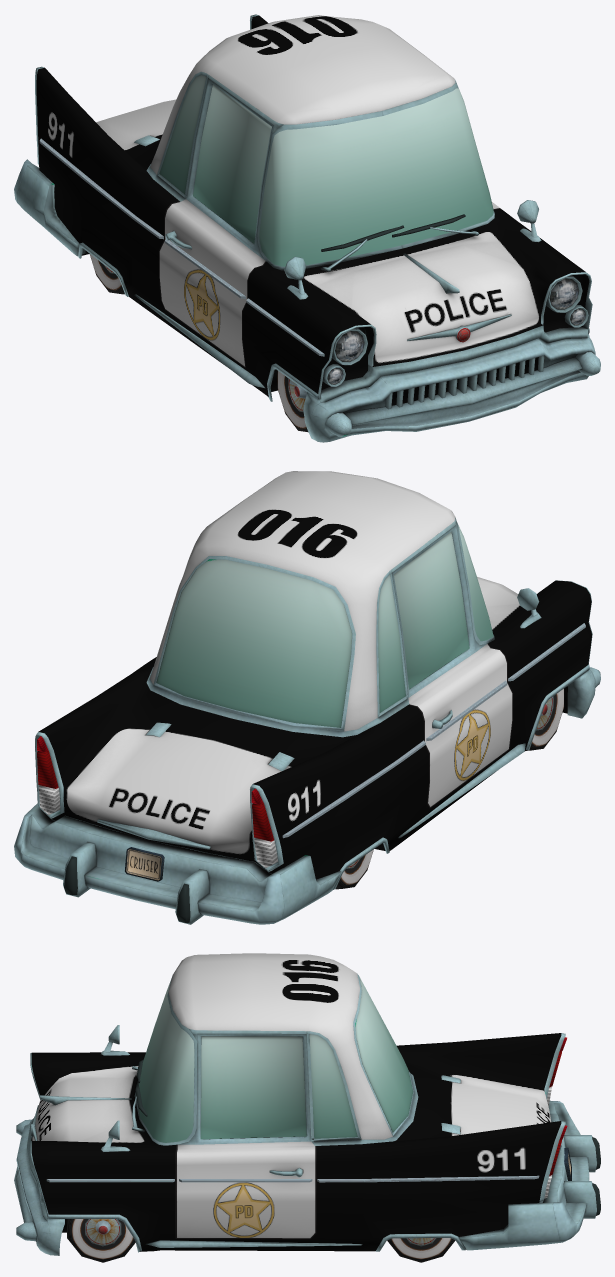
Rendered from cruiser.glb.
The picture shows the model from 3 angles, top to bottom: view 1: azimuth 30°, elevation 25°; view 2: azimuth 150°, elevation 25°; view 3: azimuth 270°, elevation 25°; orthographic projection. The views are drawn at different scales.
Visible parts, largest first — view 1: BODY, front_right_wheel, rear_right_wheel; view 2: BODY, front_right_wheel, rear_right_wheel; view 3: BODY, front_left_wheel, rear_left_wheel.
Boxes of the visible parts, x1,y1,x2,y2 form: BODY: (14,14,600,442); front_right_wheel: (277,370,308,432); rear_right_wheel: (89,253,124,294); BODY: (14,471,600,924); front_right_wheel: (526,688,564,750); rear_right_wheel: (335,849,373,889); BODY: (14,953,600,1255); front_left_wheel: (67,1219,135,1262); rear_left_wheel: (387,1238,455,1262).
Bounding box in the file's own units: 0.669 × 0.6366 × 1.42.
1 material, 1 textured.
